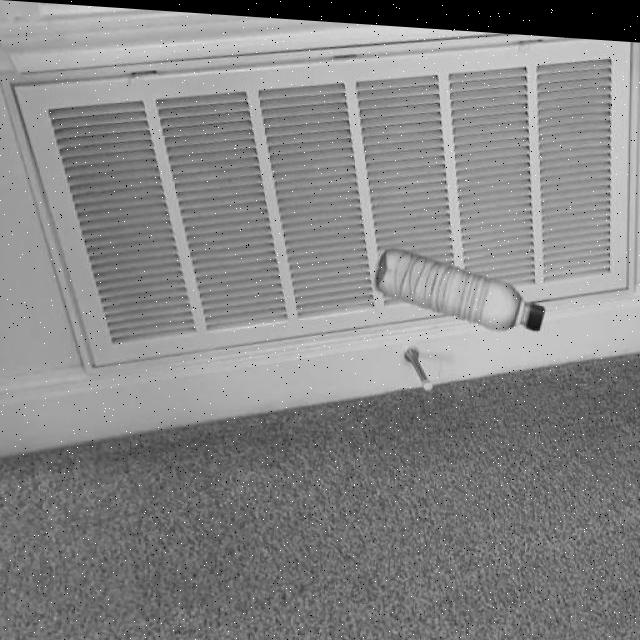bottle: (374, 239, 545, 328)
